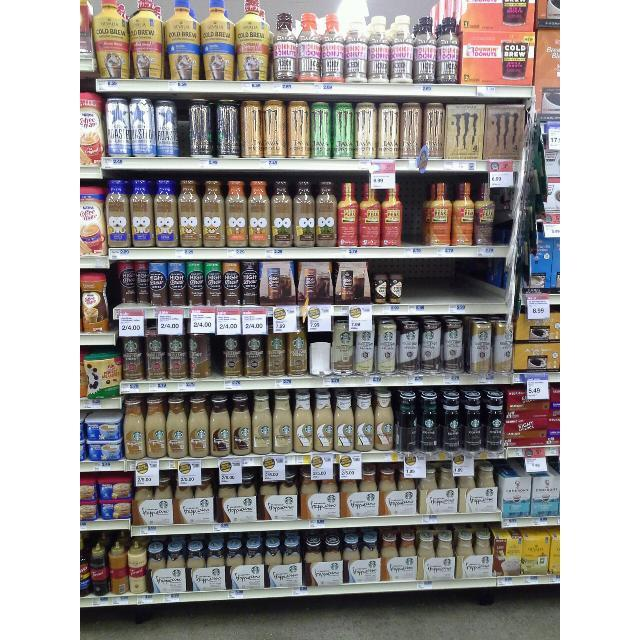empty: (403, 258, 505, 304), (402, 172, 422, 245), (176, 100, 190, 156), (210, 336, 224, 380)
